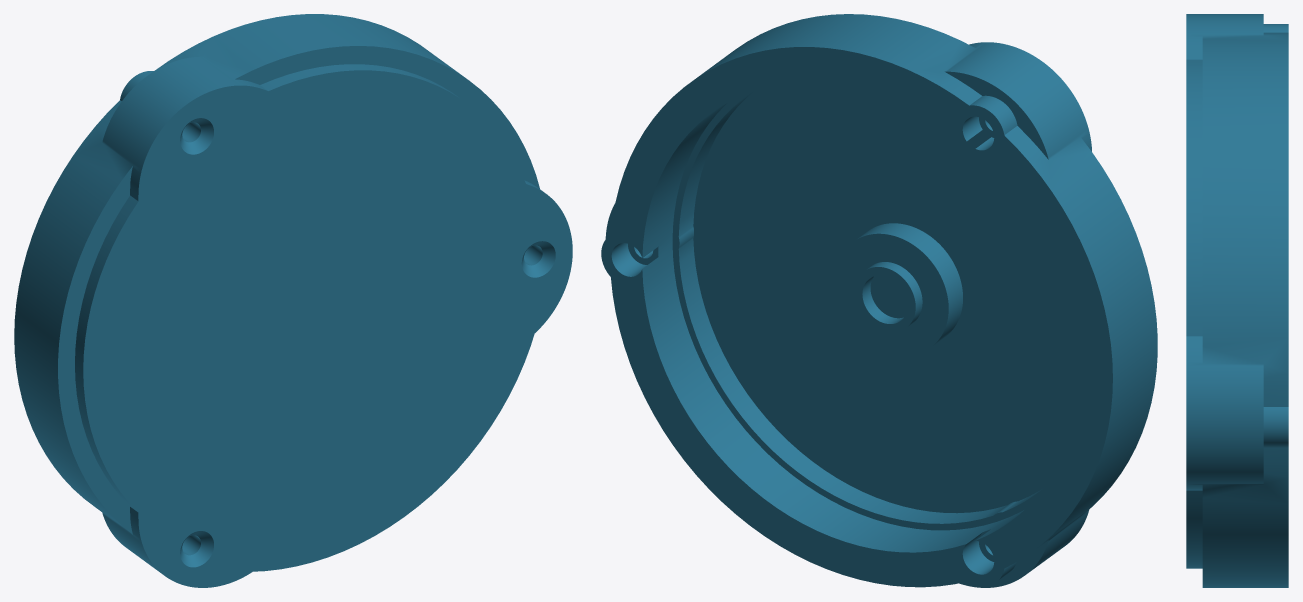
Rendered from Cap_rounded_triangle.obj.
The picture shows the model from 3 angles, left to right: view 1: azimuth 30°, elevation 25°; view 2: azimuth 150°, elevation 25°; view 3: azimuth 270°, elevation 25°; orthographic projection. The views are drawn at different scales.
Parts seen in each view (by area): view 1: Cap_rounded_triangle; view 2: Cap_rounded_triangle; view 3: Cap_rounded_triangle.
Part boxes in pixels (x1,y1,x2,y2): Cap_rounded_triangle: [14, 14, 572, 587]; Cap_rounded_triangle: [601, 14, 1157, 587]; Cap_rounded_triangle: [1186, 14, 1288, 587].
Size of the model in its own units: 59.6 by 57.6 by 10.6.
